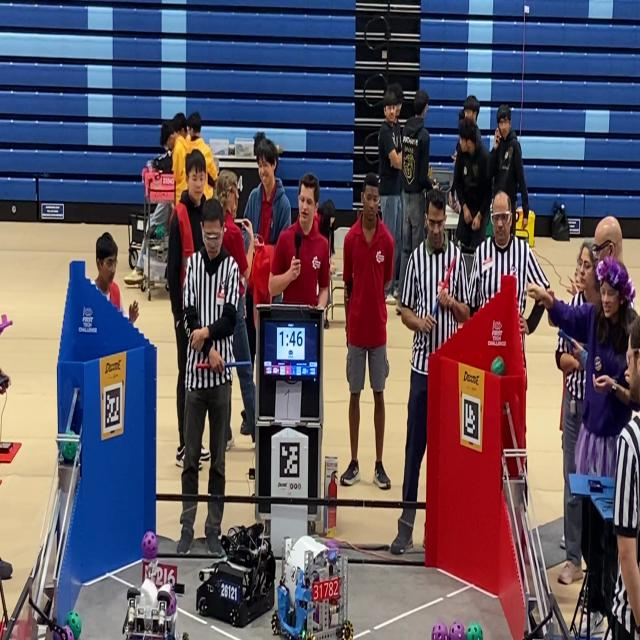artifact_green: (65, 611, 81, 639), (61, 442, 77, 462), (467, 623, 483, 639), (491, 357, 505, 375), (54, 626, 73, 639), (154, 224, 164, 239)
artifact_purple: (142, 531, 157, 560), (449, 622, 465, 639), (432, 622, 448, 639), (167, 590, 176, 616), (63, 626, 74, 639)
